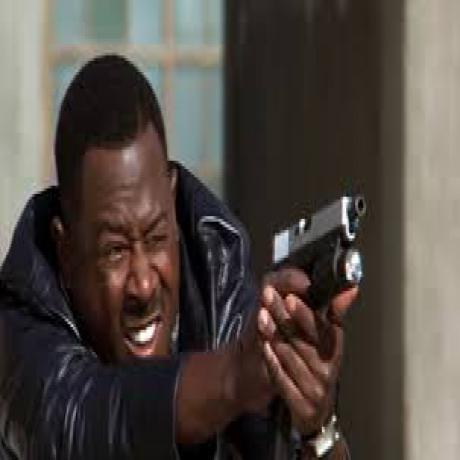Guns: (271, 188, 368, 344)
